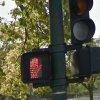Traffic light: (18, 3, 92, 92)
